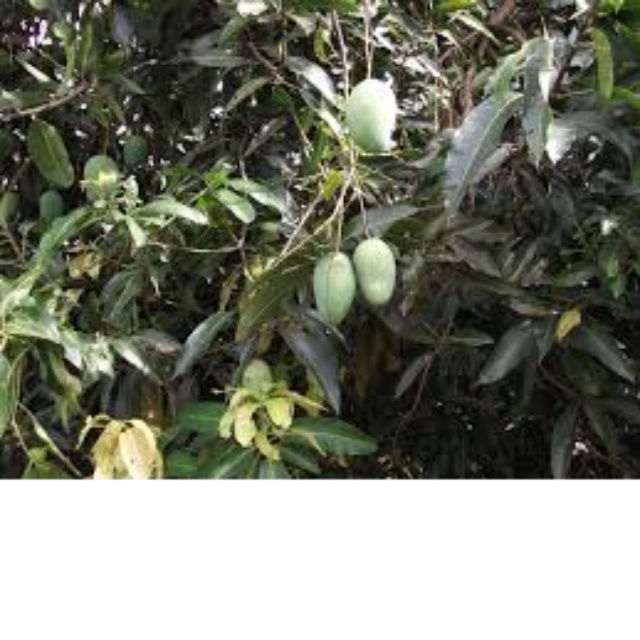thanh_long: (344, 73, 407, 159), (351, 236, 405, 323), (314, 248, 361, 329)
